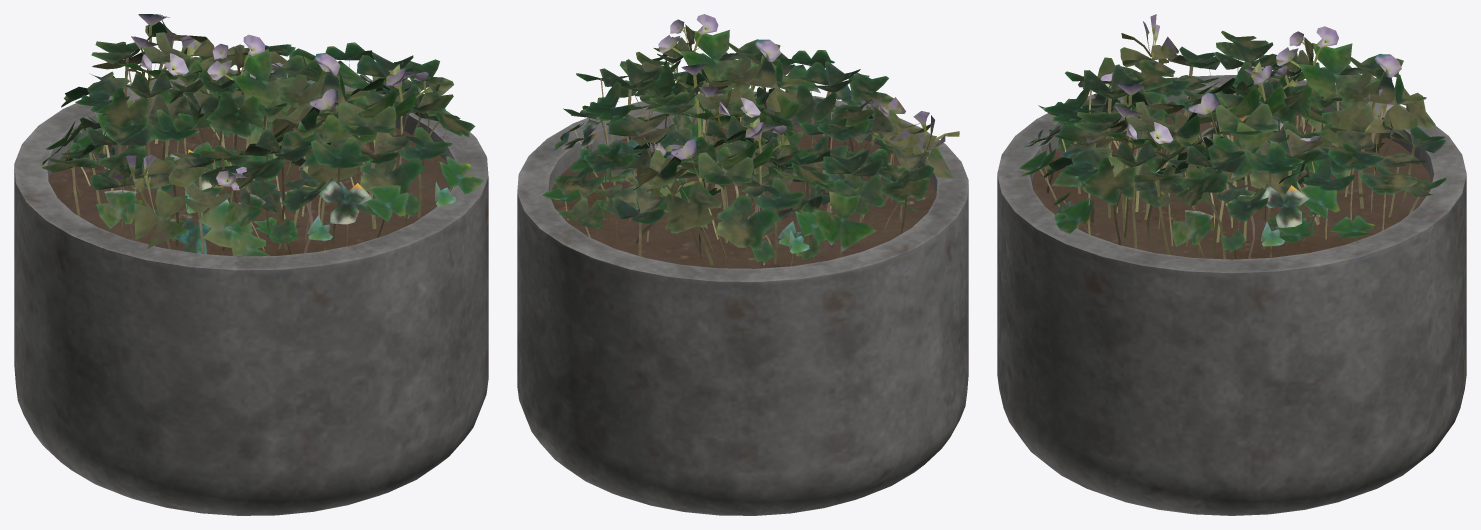
Rendered from SM_Flowerpot_04.FBX.
3 renders of one model, left to right at view 1: azimuth 30°, elevation 25°; view 2: azimuth 150°, elevation 25°; view 3: azimuth 270°, elevation 25°, orthographic. The views are drawn at different scales.
Visible parts, largest first — view 1: SM_Flowerpot_04_LOD0; view 2: SM_Flowerpot_04_LOD0; view 3: SM_Flowerpot_04_LOD0.
Boxes of the visible parts, x1=… form: SM_Flowerpot_04_LOD0: x1=14, y1=14, x2=488, y2=515; SM_Flowerpot_04_LOD0: x1=517, y1=14, x2=968, y2=515; SM_Flowerpot_04_LOD0: x1=997, y1=14, x2=1466, y2=515.
Size of what is drawn, in the model's own units: 96.04 by 96.04 by 86.36.
